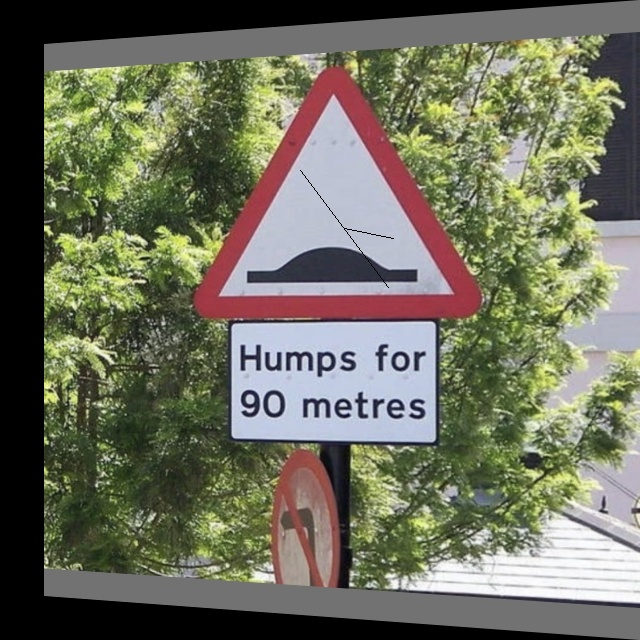Hump_or_Rough_Road: (204, 62, 463, 315)
